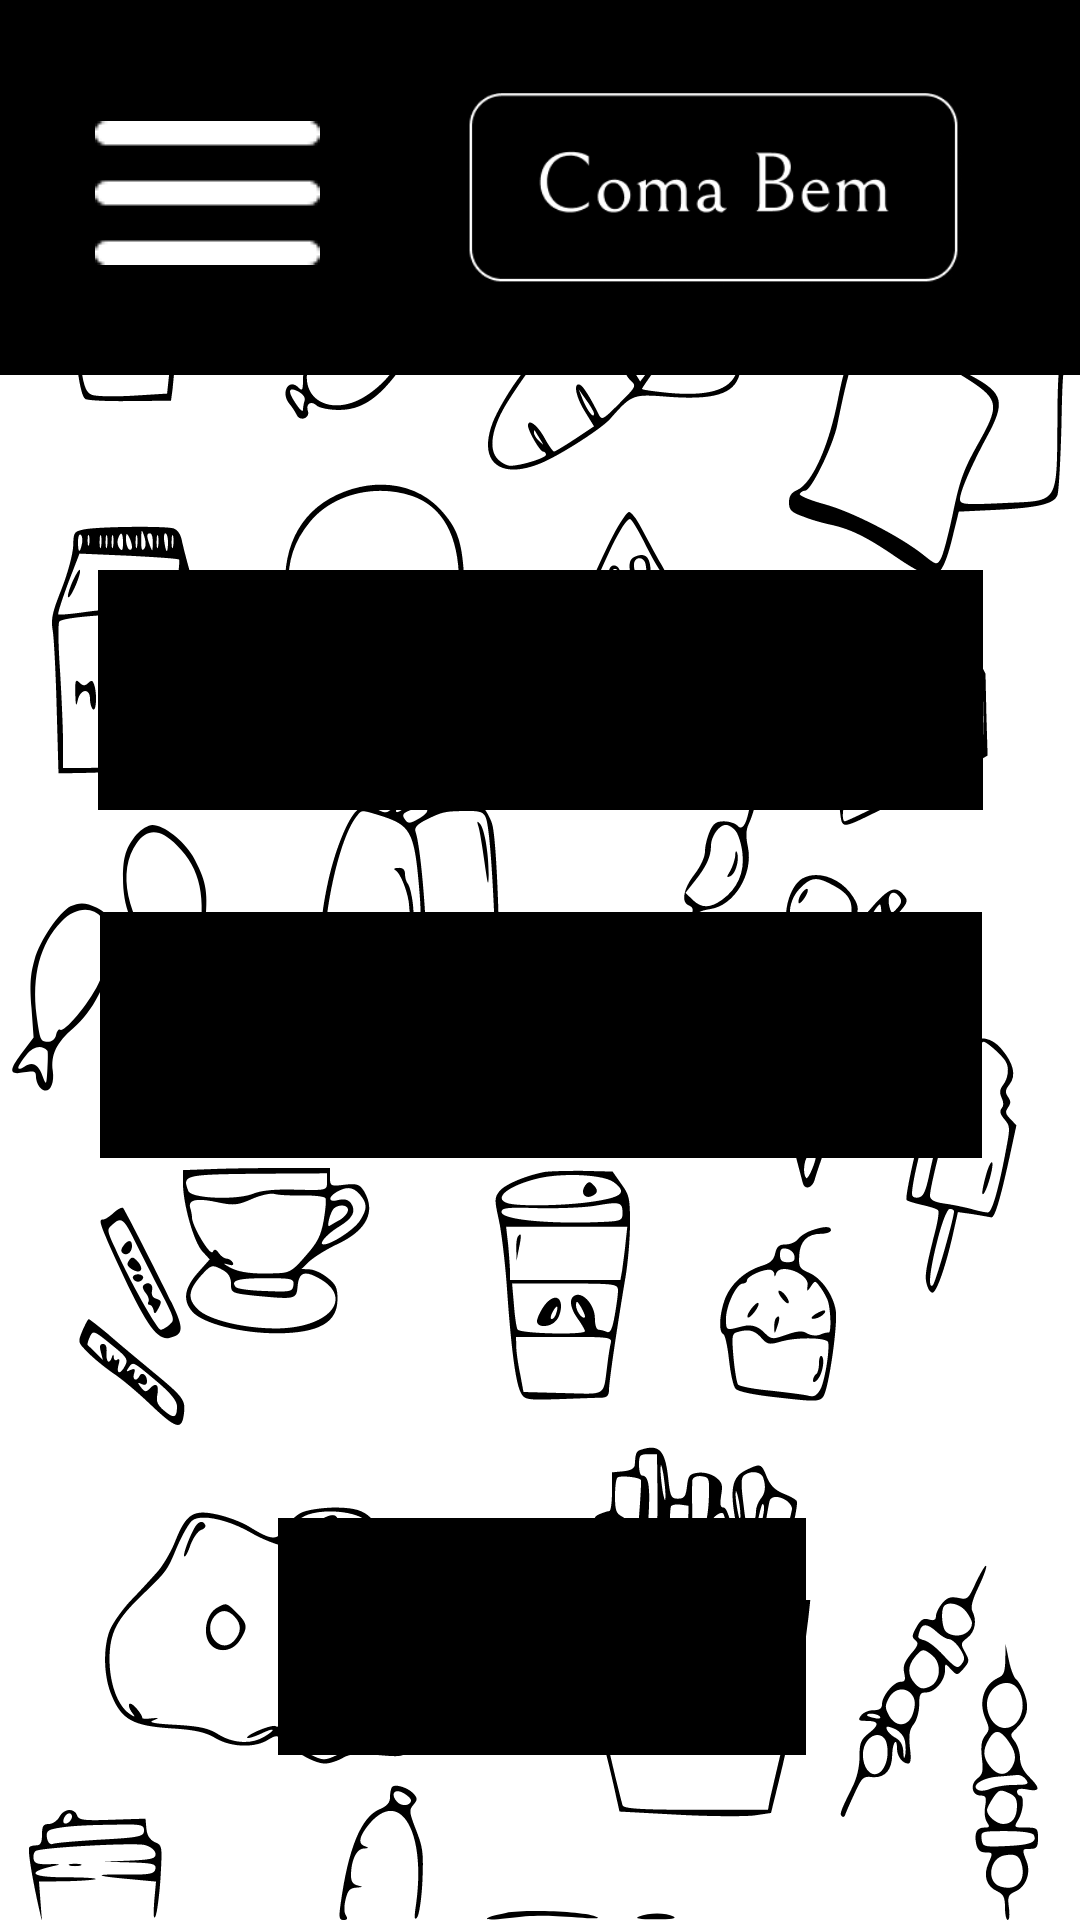

Locate icon controls on the screen. Image size 1080 x 1920, boxes as (x1, y1, x2, y2).
Menu de navegação no estilo "hambúrguer": (95, 121, 320, 265)
